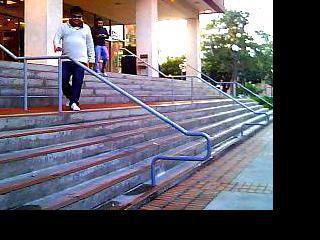Escaleras: (0, 106, 269, 204), (0, 56, 224, 98)
